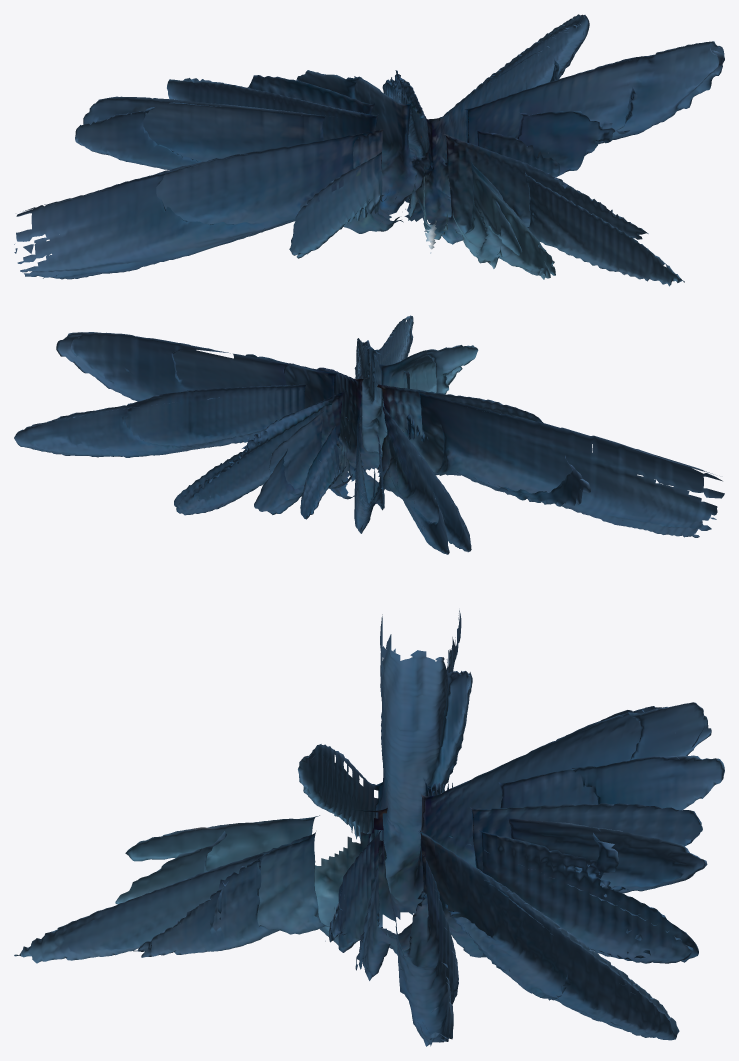
File: papertrail-forbidden-forest-v20260502212237-b975dfb2-collider.glb
The picture shows the model from 3 angles, top to bottom: view 1: azimuth 30°, elevation 25°; view 2: azimuth 150°, elevation 25°; view 3: azimuth 270°, elevation 25°; orthographic projection. The views are drawn at different scales.
Parts seen in each view (by area): view 1: world; view 2: world; view 3: world.
Boxes of the visible parts, x1,y1,x2,y2 form: world: (14, 14, 724, 286); world: (14, 315, 724, 554); world: (14, 610, 724, 1046).
Size of the model in its own units: 74.03 by 10.84 by 51.9.
